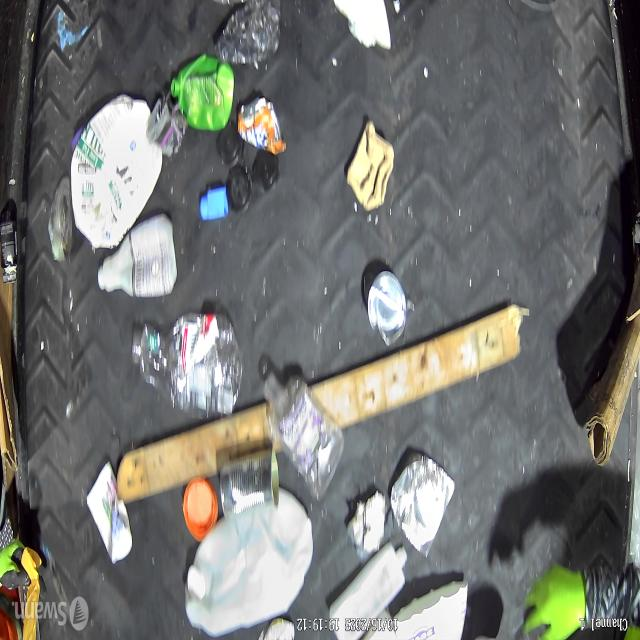can: (390, 452, 458, 558), (218, 444, 279, 524), (364, 270, 408, 346), (236, 94, 288, 156)
milk_jug: (186, 486, 312, 640), (68, 92, 162, 250)
non_white_jug: (169, 51, 235, 133)
plastic_bottle: (128, 308, 244, 424), (260, 364, 348, 504)
